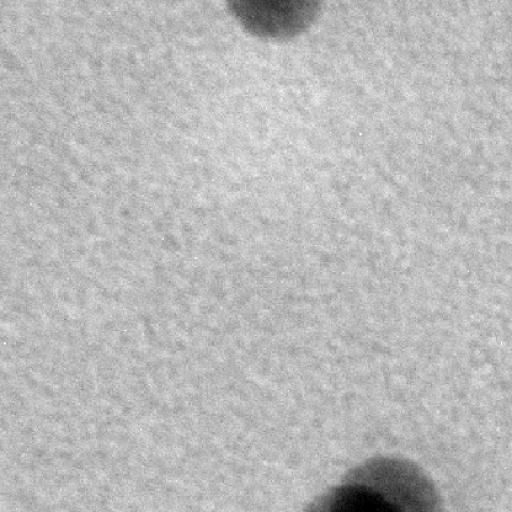Nanoparticles: (332, 454, 444, 512), (228, 0, 326, 43), (301, 484, 402, 512)
